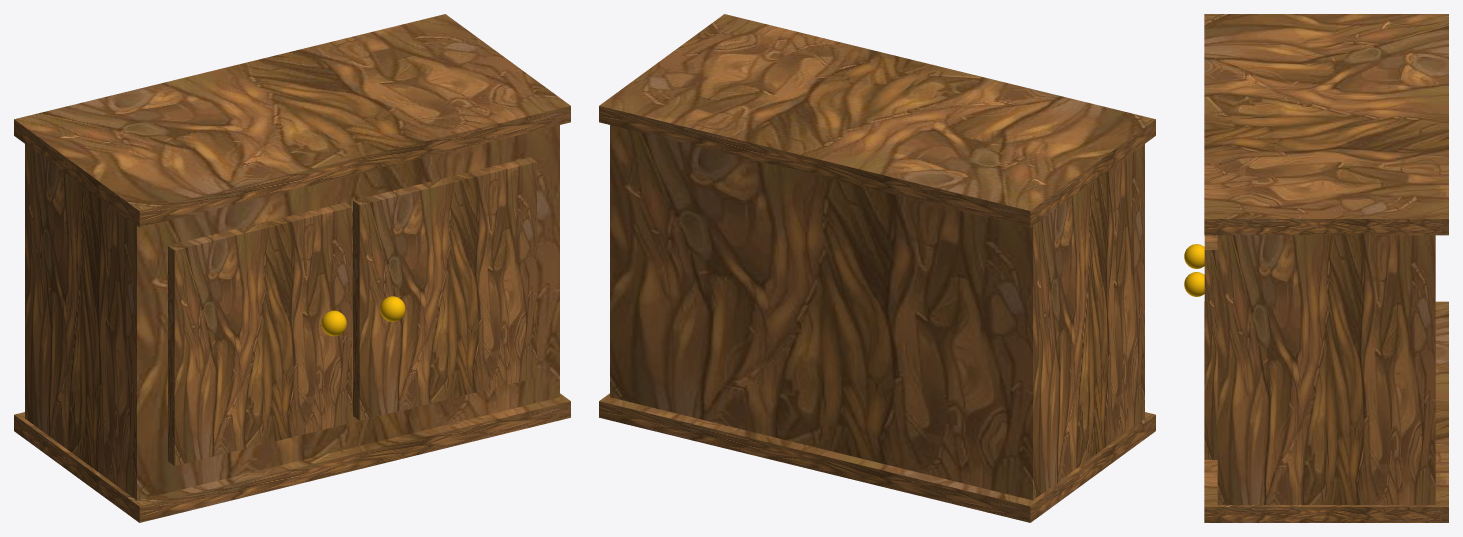
File: Cabinet.fbx
3 renders of one model, left to right at view 1: azimuth 30°, elevation 25°; view 2: azimuth 150°, elevation 25°; view 3: azimuth 270°, elevation 25°, orthographic. The views are drawn at different scales.
Visible parts, largest first — view 1: Cube, Cube_4, Cube_2, Cube_1, Cube_3; view 2: Cube, Cube_4, Cube_3; view 3: Cube, Cube_4, Cube_3, Cube_2, Sphère_1, Sphère.
Boxes of the visible parts, box(x1,y1,x2,y2) form: Cube: box(25, 125, 559, 500); Cube_4: box(14, 14, 570, 227); Cube_2: box(353, 157, 536, 420); Cube_1: box(168, 202, 351, 465); Cube_3: box(14, 393, 570, 522); Cube: box(610, 125, 1144, 500); Cube_4: box(599, 14, 1155, 227); Cube_3: box(599, 393, 1155, 522); Cube: box(1217, 235, 1435, 504); Cube_4: box(1204, 14, 1448, 235); Cube_3: box(1204, 301, 1448, 522); Cube_2: box(1204, 235, 1217, 459); Sphère_1: box(1184, 272, 1204, 296); Sphère: box(1184, 244, 1204, 268).
Size of the model in its own units: 238 by 164 by 130.
2 materials, 1 textured.
